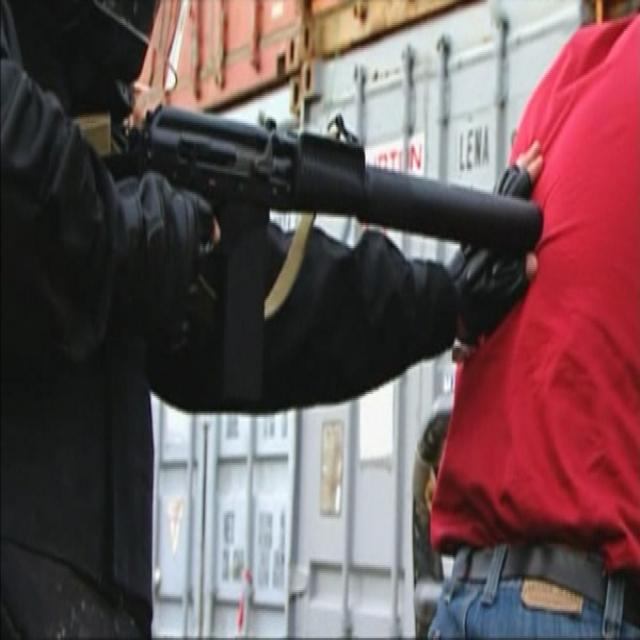rifle: (70, 87, 557, 293)
